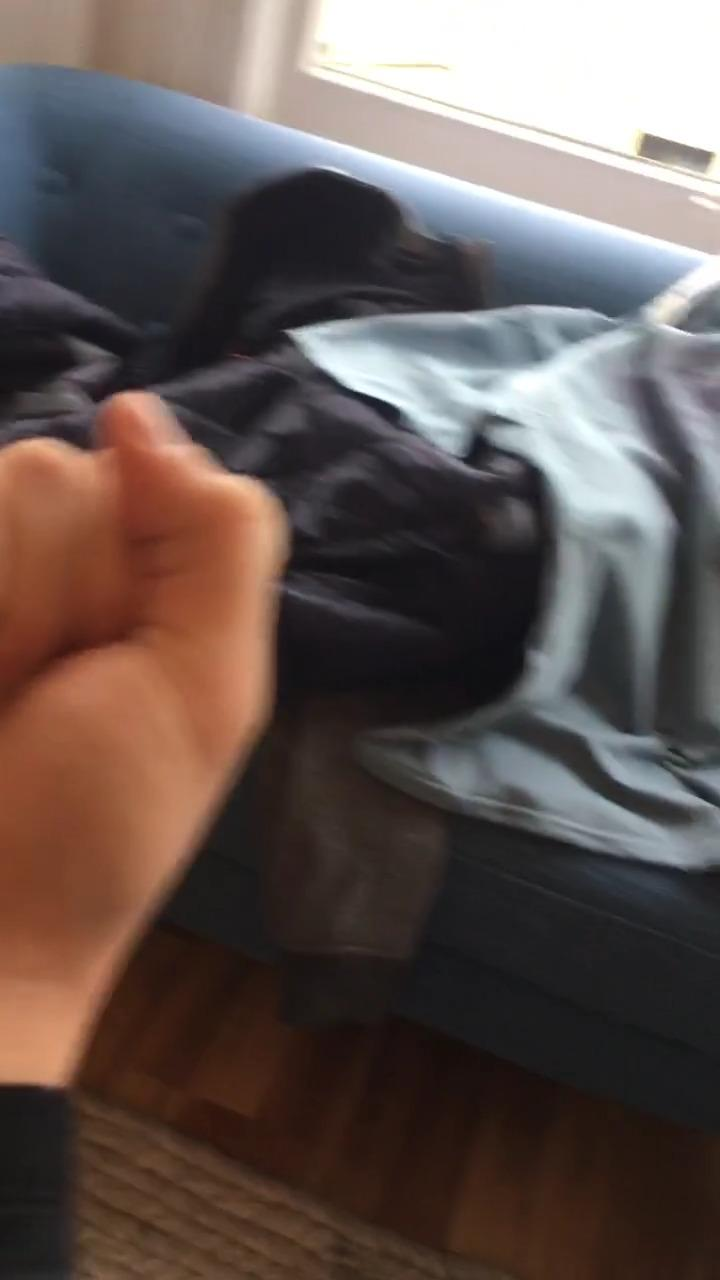Rock: (0, 396, 288, 988)
